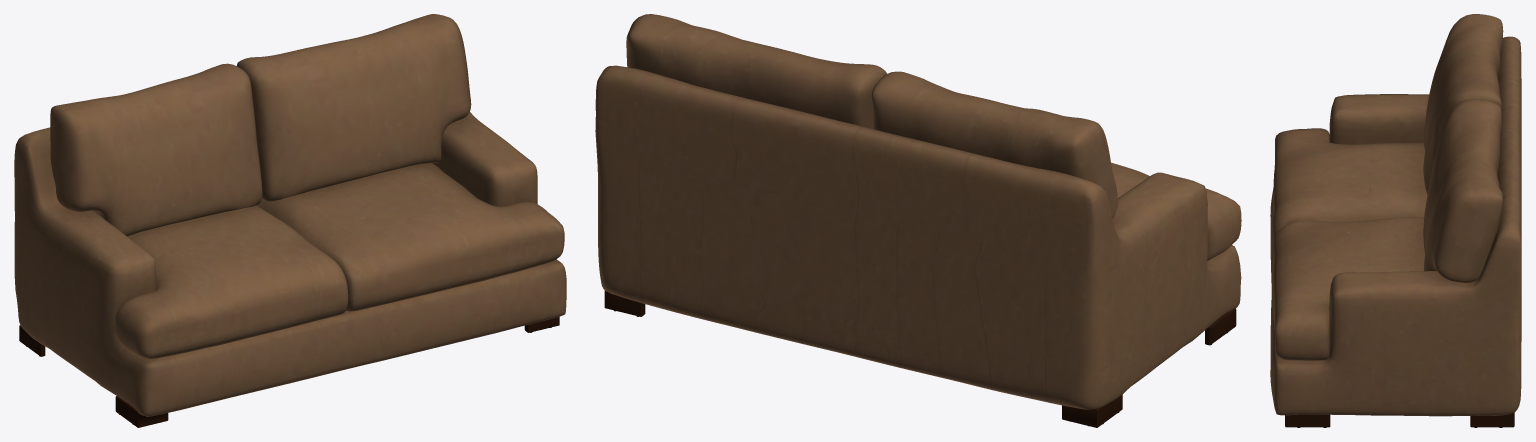
The model's file is abo-B07P8ST73W.glb.
3 renders of one model, left to right at view 1: azimuth 30°, elevation 25°; view 2: azimuth 150°, elevation 25°; view 3: azimuth 270°, elevation 25°, orthographic. The views are drawn at different scales.
Bounding box in the file's own units: 1.86 × 0.98 × 0.962.
Materials: 1 (1 with a texture image).
